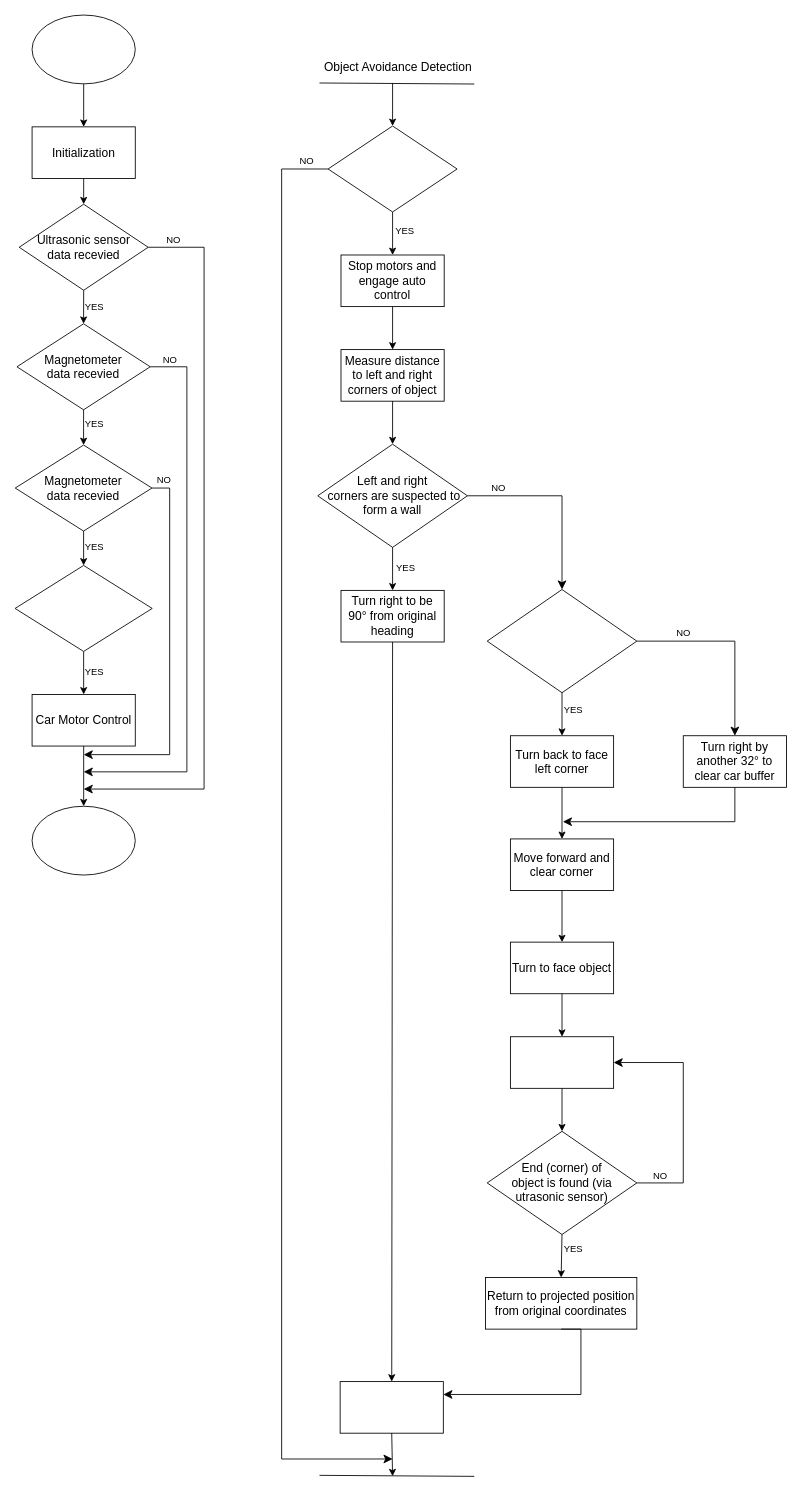
Some shapes in this 802 by 1498 pixel diagram are drawn without their labels. Here are the shapes that lost their labels. From the top down, the box of each, then its label:
(31, 14, 135, 84): Main
(327, 125, 457, 212): Ultrasonic sensor distance <=30
(14, 565, 152, 651): TCP Client-Server connection
(486, 589, 637, 693): Distance to left corner is shoter
(31, 805, 135, 875): End
(510, 1036, 614, 1088): Crab walk along the side of object
(339, 1381, 443, 1433): Engage manual control
